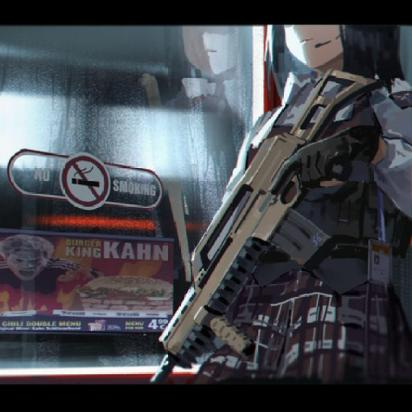Gun: (143, 63, 377, 386)
